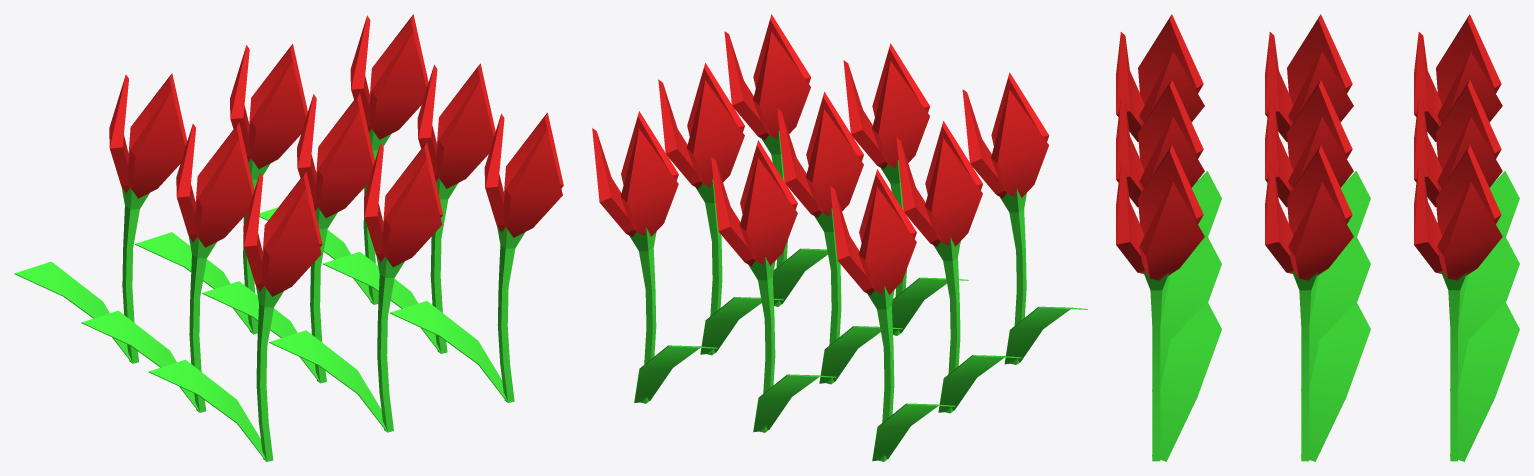
Rendered from tulip1group.fbx.
3 views of the same model, side by side, from view 1: azimuth 30°, elevation 25°; view 2: azimuth 150°, elevation 25°; view 3: azimuth 270°, elevation 25° (orthographic). The views are drawn at different scales.
Parts seen in each view (by area): view 1: Box005; view 2: Box005; view 3: Box005.
Boxes of the visible parts, box(x1,y1,x2,y2) form: Box005: box(14, 14, 563, 461); Box005: box(592, 14, 1087, 461); Box005: box(1116, 14, 1519, 461).
Bounding box in the file's own units: 79.44 × 55.33 × 64.49.
